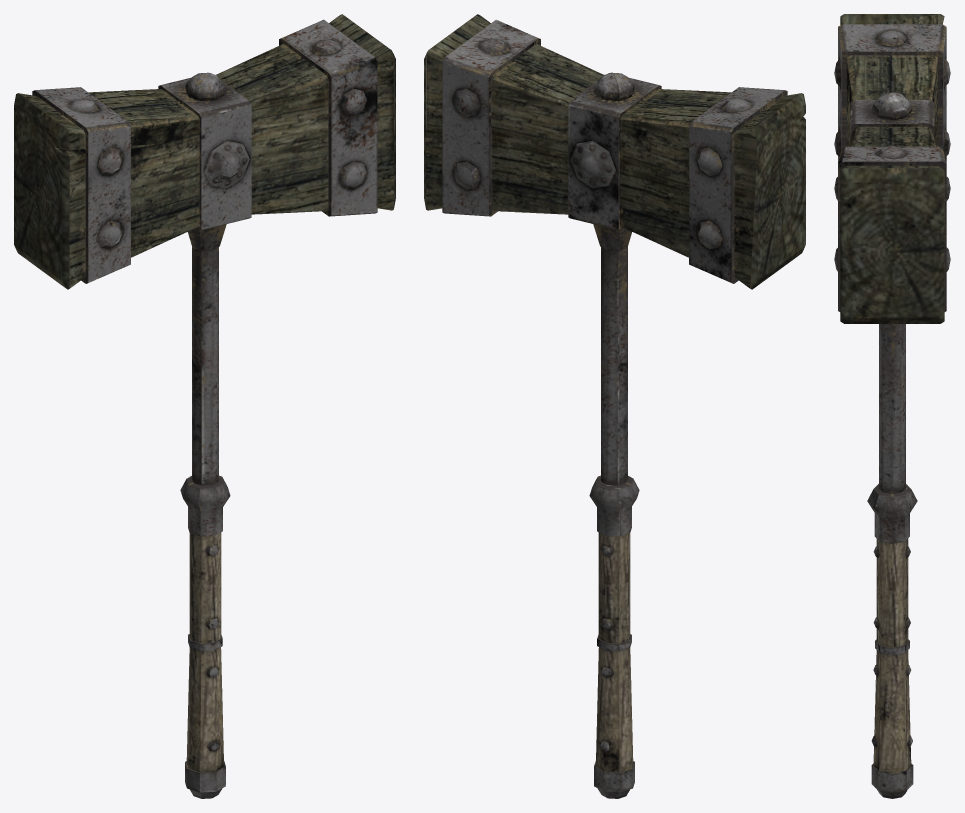
File: kladivo_valecne.glb
3 views of the same model, side by side, from view 1: azimuth 30°, elevation 25°; view 2: azimuth 150°, elevation 25°; view 3: azimuth 270°, elevation 25° (orthographic). The views are drawn at different scales.
Visible parts, largest first — view 1: kladivo_valecne; view 2: kladivo_valecne; view 3: kladivo_valecne.
Part boxes in pixels (x1,y1,x2,y2): kladivo_valecne: (14,14,395,798); kladivo_valecne: (424,14,805,798); kladivo_valecne: (834,14,950,798).
Size of the model in its own units: 0.4801 by 1 by 0.1493.
Materials: 1 (1 with a texture image).
